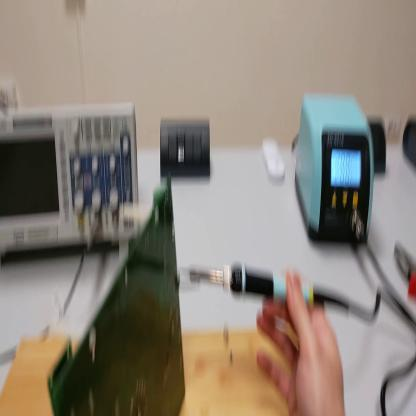hand: (257, 270, 348, 416)
low voltage board: (48, 160, 188, 416)
oscilloscope: (1, 103, 140, 265)
pliers: (396, 239, 416, 300)
socket: (370, 118, 387, 174), (404, 115, 416, 175)
welder probe tip: (181, 254, 352, 297)
welder station: (293, 96, 375, 248)
working area: (1, 326, 314, 415)
